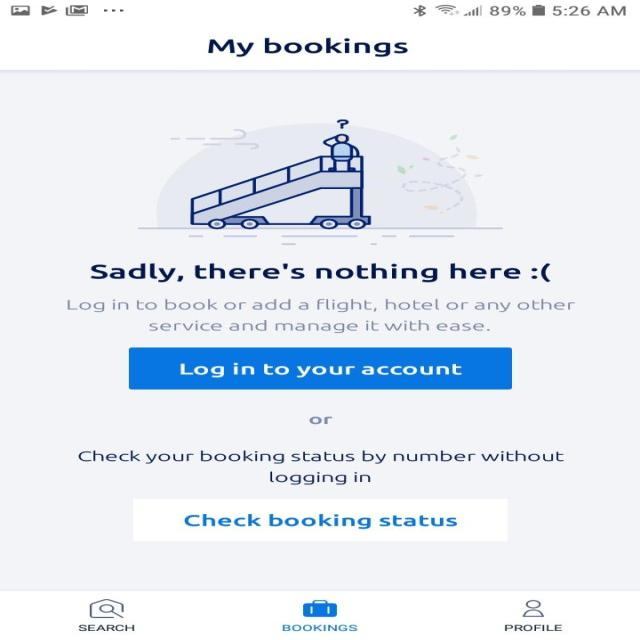Icon: (88, 598, 125, 618), (302, 599, 337, 617), (522, 599, 544, 617)
Image: (137, 119, 503, 245)
Text: (67, 298, 576, 334), (77, 450, 564, 485), (90, 262, 552, 282), (207, 37, 408, 57), (282, 624, 358, 631), (503, 624, 562, 631), (78, 624, 135, 631), (308, 416, 332, 424)
TextButton: (128, 347, 512, 390), (132, 498, 506, 540)
